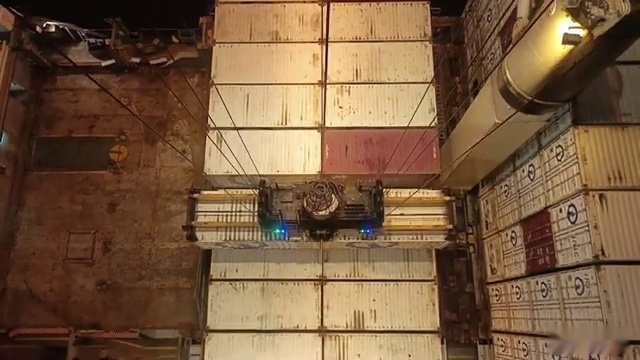container: (185, 182, 468, 244), (201, 278, 453, 336), (203, 128, 439, 178), (203, 229, 438, 279), (205, 82, 445, 127), (207, 42, 433, 83), (202, 333, 444, 360)
guide_mark: (110, 343, 543, 360), (66, 354, 561, 360)
spreader: (180, 175, 467, 247)
target_slot: (181, 178, 461, 251)
